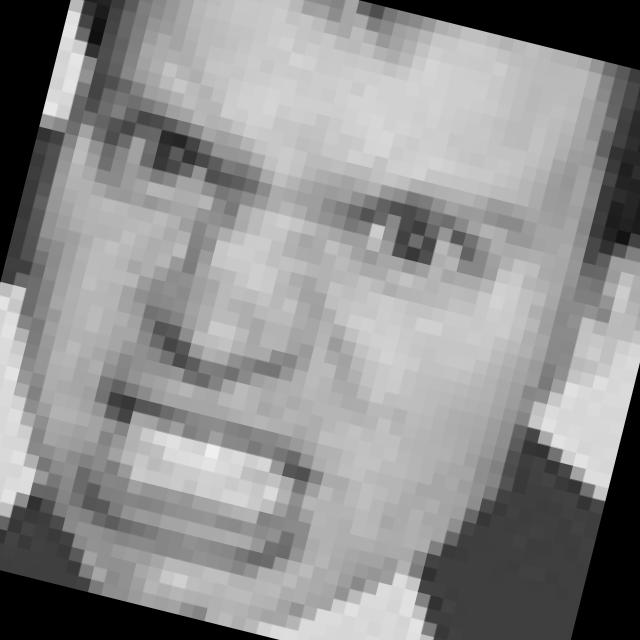angry: (0, 68, 543, 615)
